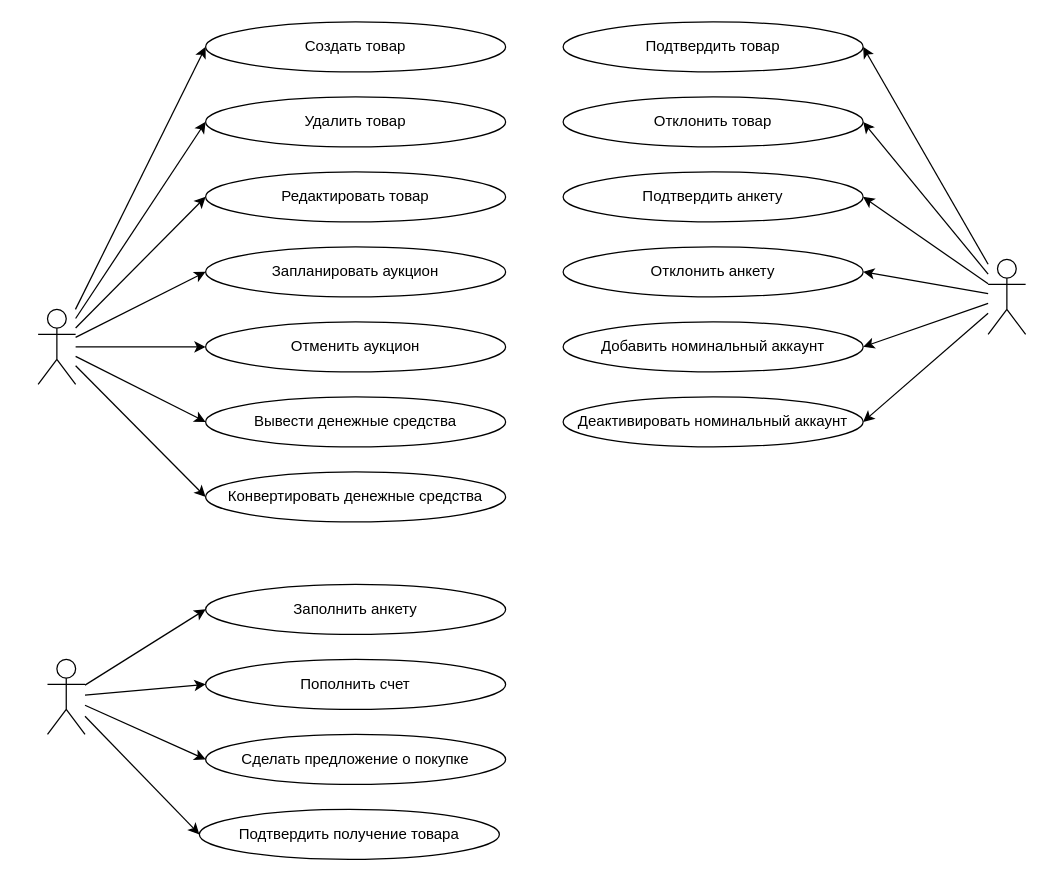
The diagram is 1064 pixels wide and 881 high, and some of its shapes have lost their labels. Here are the shapes that lost their labels. From the top down, the box of each, then its label:
(987, 258, 1026, 334): Менеджер
(37, 308, 76, 384): Владелец
(46, 658, 85, 734): Покупатель
